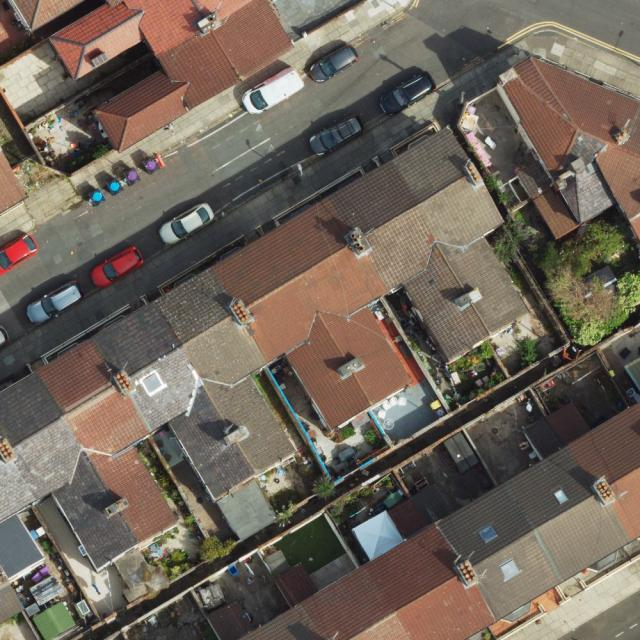roof: (0, 126, 528, 584), (238, 398, 640, 640), (48, 0, 296, 151), (496, 52, 640, 243), (16, 0, 89, 31), (0, 144, 29, 211)
skylight: (140, 371, 169, 398), (497, 555, 522, 586), (478, 524, 500, 544), (552, 485, 570, 506)
